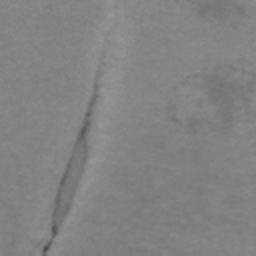Finishing roll printing: (41, 46, 106, 255)
